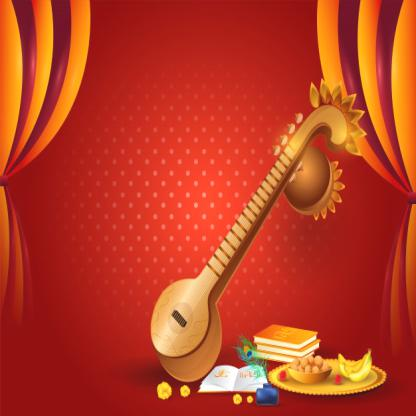Veena: (141, 151, 318, 370)
